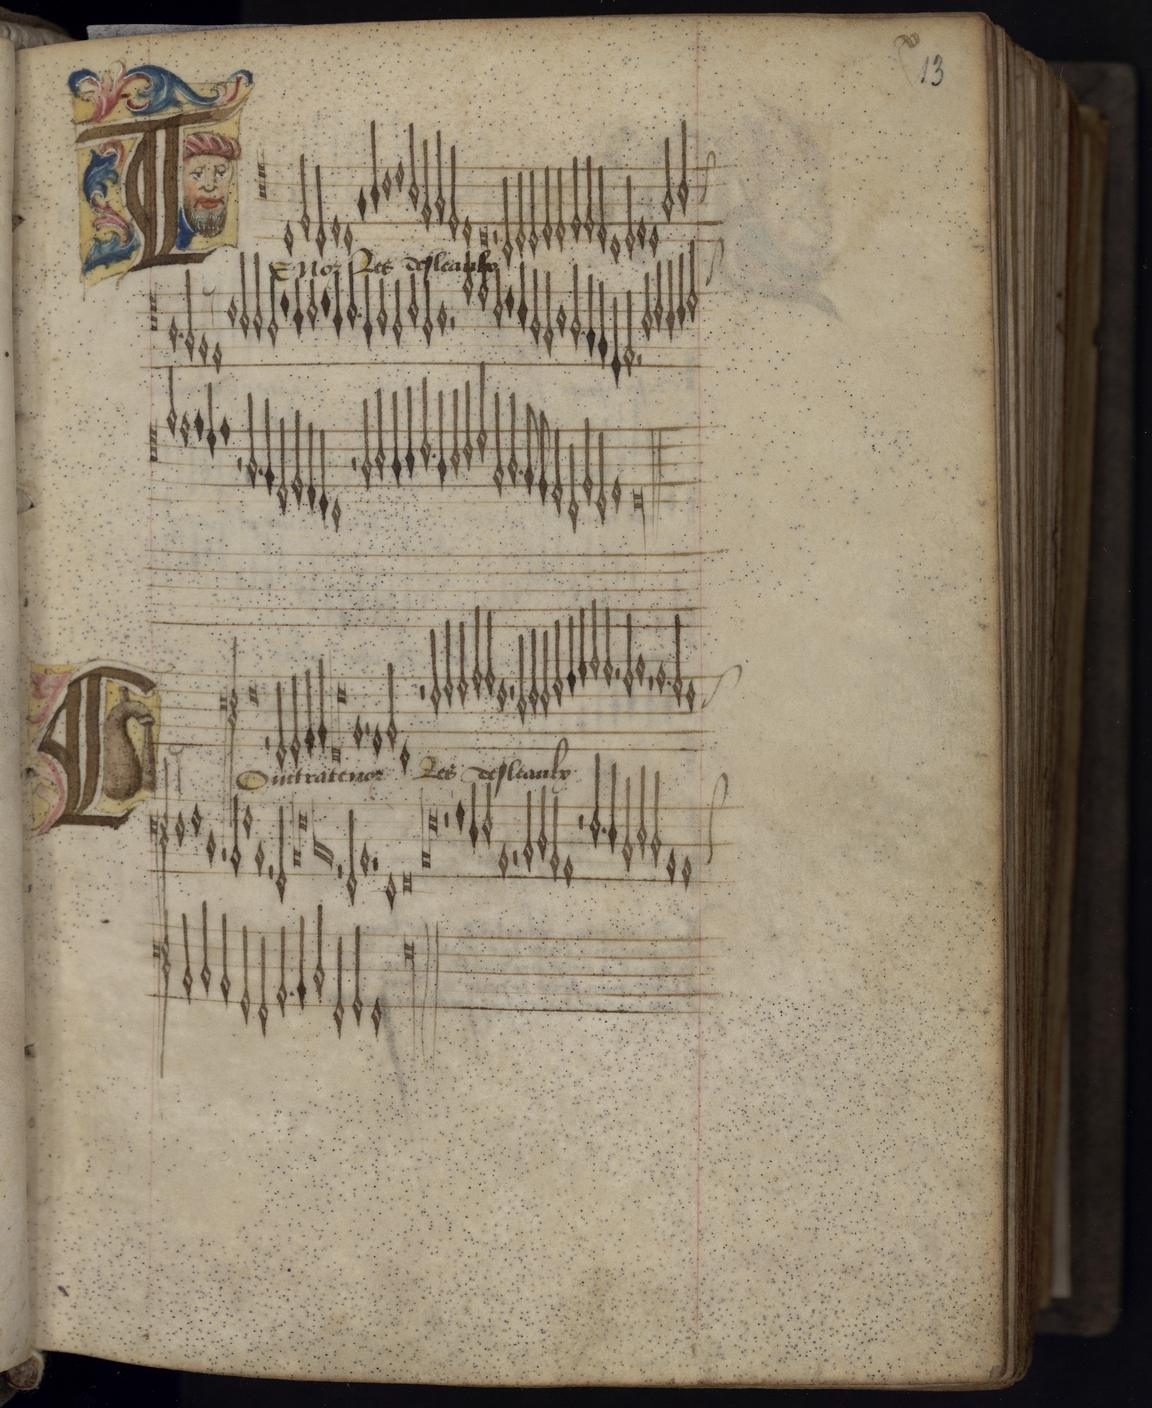breve_5: (240, 676, 260, 712)
custos_6: (692, 688, 731, 712)
f clef_7: (209, 684, 244, 753)
l1semibreve_12: (327, 679, 337, 762)
l2semibreve_5: (334, 683, 349, 759)
minim rest: (258, 667, 276, 769), (612, 654, 625, 753), (363, 677, 373, 762), (416, 676, 428, 750), (510, 678, 518, 748)
minim_11: (287, 670, 302, 760)
minim_12: (271, 681, 291, 769)
minim_2: (601, 603, 616, 693)
minim_3: (621, 606, 637, 708), (481, 613, 498, 699), (468, 606, 484, 696)
minim_4: (669, 603, 687, 716), (451, 615, 470, 708), (441, 610, 455, 712), (550, 615, 565, 704)
minim_5: (425, 619, 443, 723), (526, 624, 541, 717), (536, 624, 551, 716)
minim_6: (513, 624, 529, 729)
minim_9: (385, 672, 402, 752)
point: (663, 671, 676, 693)
semibreve rest: (646, 653, 656, 748)
semibreve_10: (371, 726, 387, 759)
semibreve_12: (394, 740, 415, 771)
semibreve_2: (633, 649, 649, 686)
semibreve_3: (653, 660, 669, 696)
semibreve_5: (491, 672, 508, 715), (684, 676, 701, 717)
semibreve_9: (349, 711, 366, 753)
semiminim_10: (301, 663, 317, 761)
semiminim_2: (575, 603, 589, 696)
semiminim_3: (564, 606, 578, 697)
semiminim_9: (313, 662, 329, 761)
